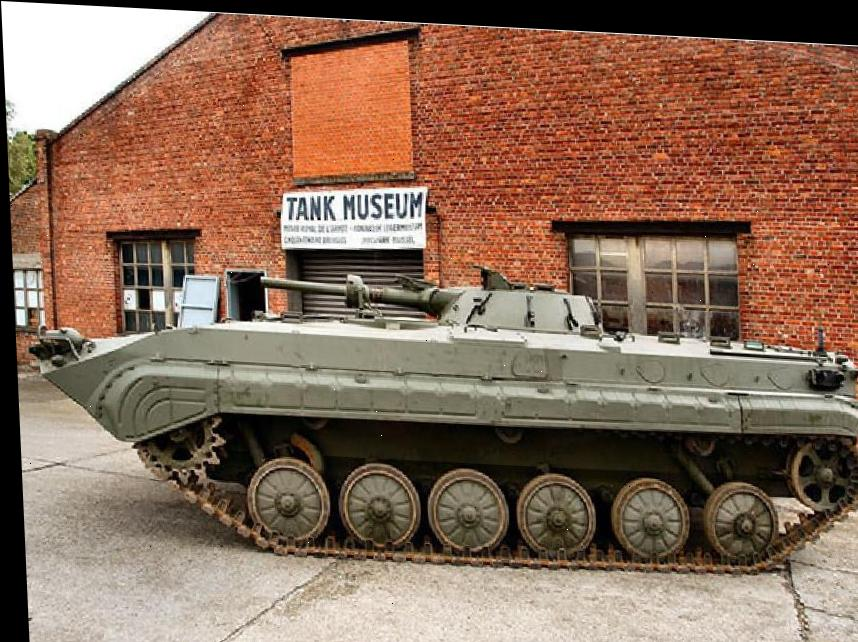tank: (22, 239, 858, 587)
